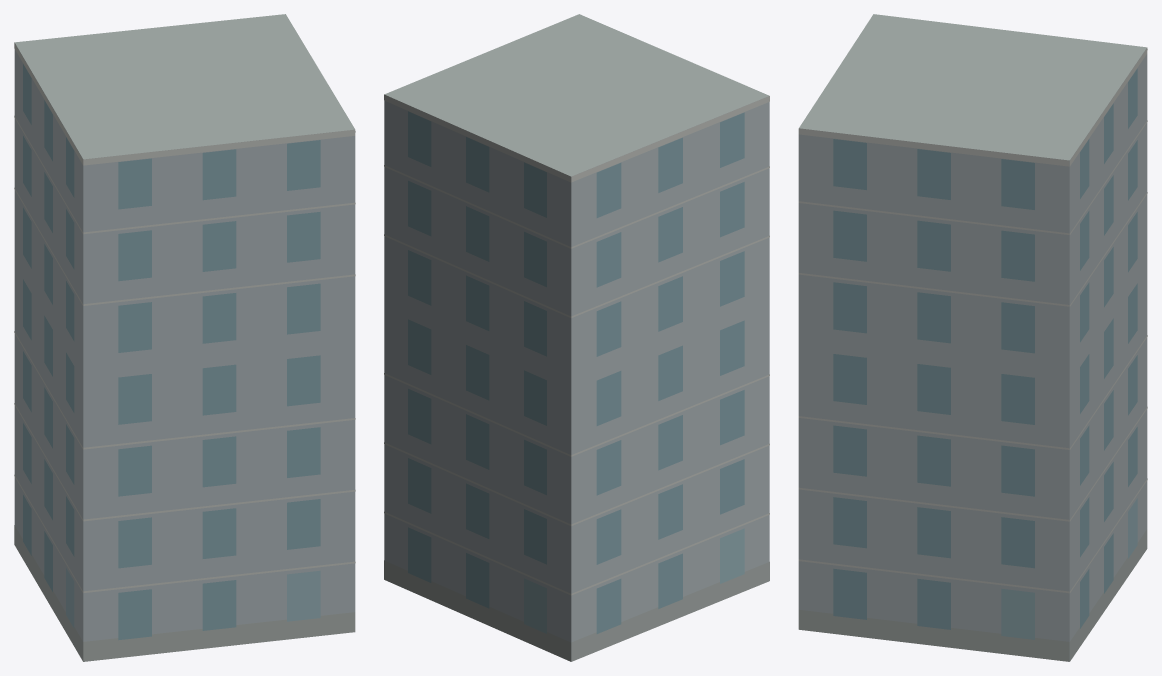
The model's file is survey-upis-32947847.glb.
The picture shows the model from 3 angles, left to right: view 1: azimuth 30°, elevation 25°; view 2: azimuth 150°, elevation 25°; view 3: azimuth 270°, elevation 25°; orthographic projection. The views are drawn at different scales.
Visible parts, largest first — view 1: survey-upis-32947847.tmp; view 2: survey-upis-32947847.tmp; view 3: survey-upis-32947847.tmp.
Boxes of the visible parts, <box> form: survey-upis-32947847.tmp: <box>14,14,355,661</box>; survey-upis-32947847.tmp: <box>384,14,769,661</box>; survey-upis-32947847.tmp: <box>798,14,1147,661</box>.
Bounding box in the file's own units: 12.43 × 19.8 × 12.5.
